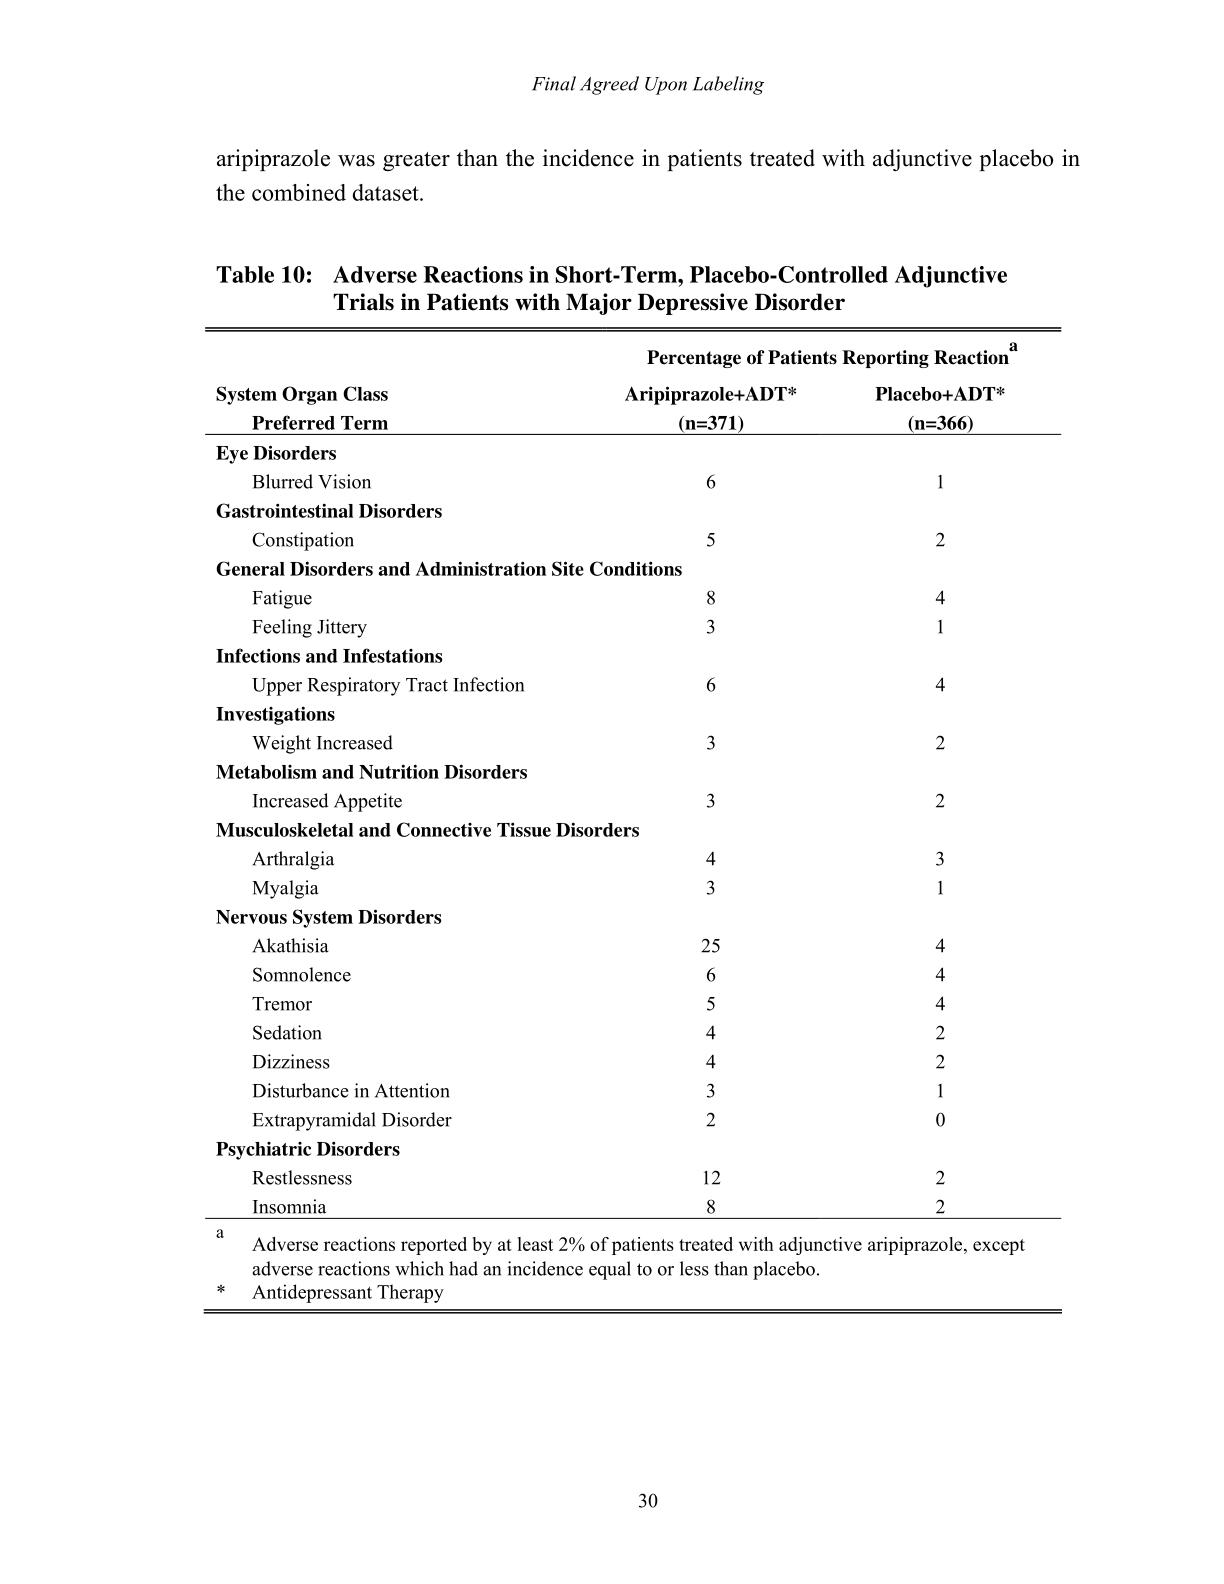partial_lined_merged_cells: (202, 327, 1059, 1223)
